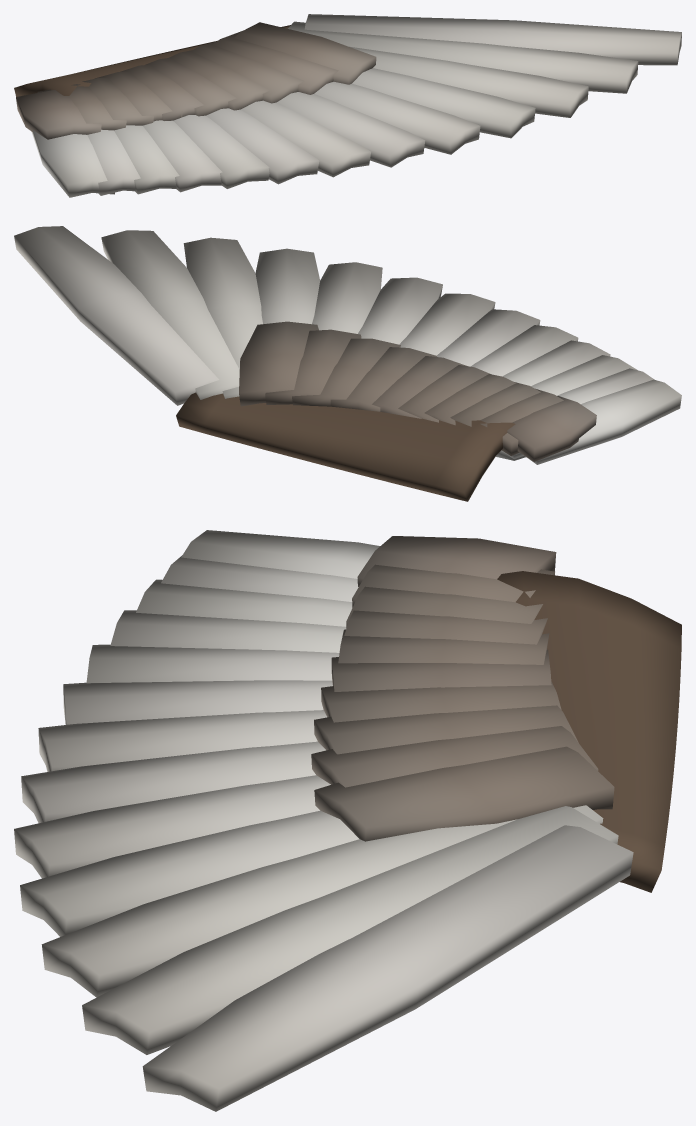
File: Raichou_Wing.fbx
3 views of the same model, one above another, from view 1: azimuth 30°, elevation 25°; view 2: azimuth 150°, elevation 25°; view 3: azimuth 270°, elevation 25° (orthographic). The views are drawn at different scales.
Visible parts, largest first — view 1: Raichou_Wing; view 2: Raichou_Wing; view 3: Raichou_Wing.
Part boxes in pixels (bbox=[...]): Raichou_Wing: bbox=[14, 14, 681, 197]; Raichou_Wing: bbox=[14, 226, 681, 501]; Raichou_Wing: bbox=[14, 530, 681, 1111].
Bounding box in the file's own units: 8.83 × 0.5567 × 4.46.
